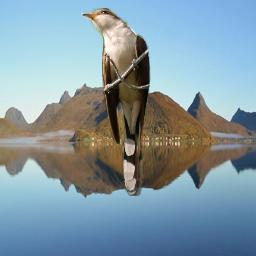Cuckoo: (81, 8, 151, 196)
